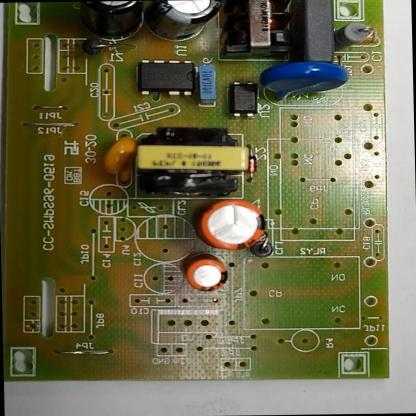Cap1: (196, 197, 268, 254)
Cap2: (187, 255, 229, 291)
Cap3: (145, 0, 227, 45)
Cap4: (78, 1, 147, 42)
MOSFET: (137, 57, 198, 100)
Mov: (261, 58, 354, 105)
Resistor: (337, 17, 376, 51)
Transformer: (134, 126, 247, 199), (224, 0, 298, 58)
